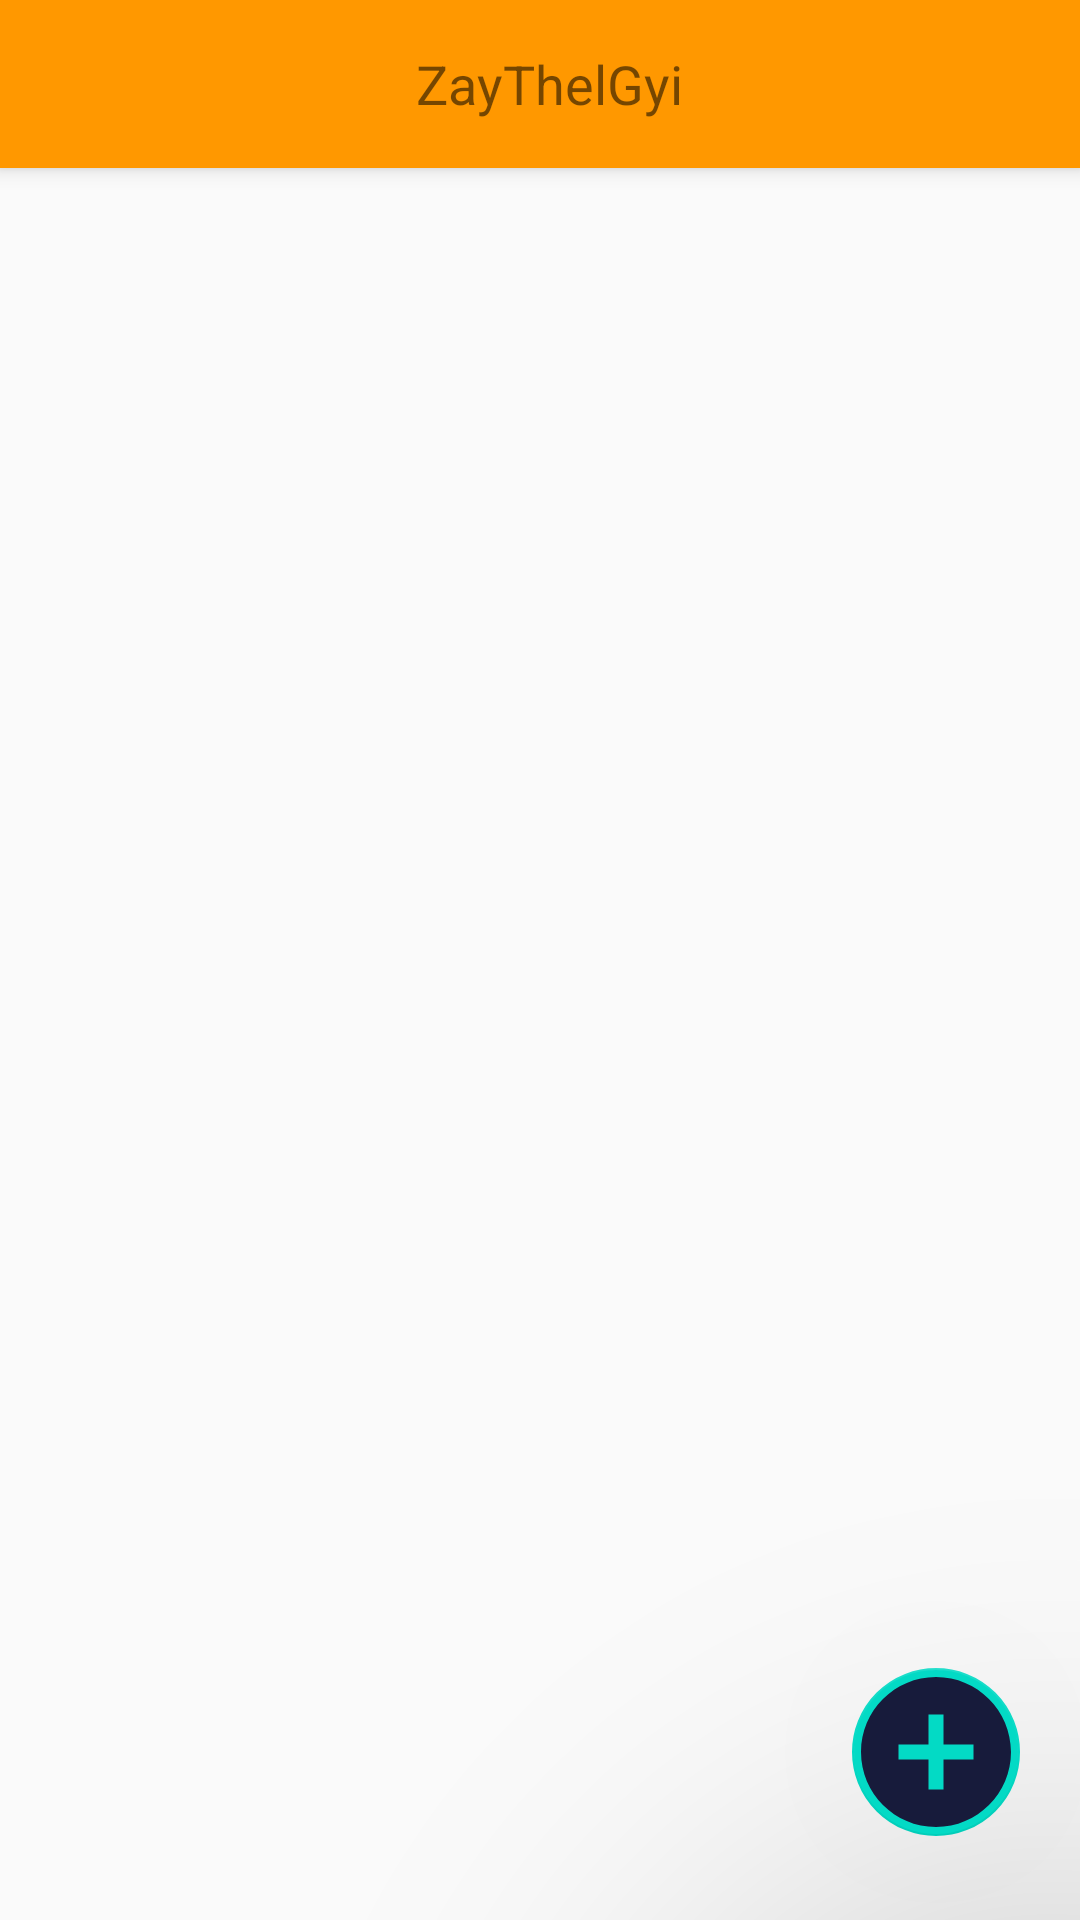

Where to tap for icons on this 1080w x 1920h app screen, as (x=x, y=y):
add circle: (x=936, y=1752)
